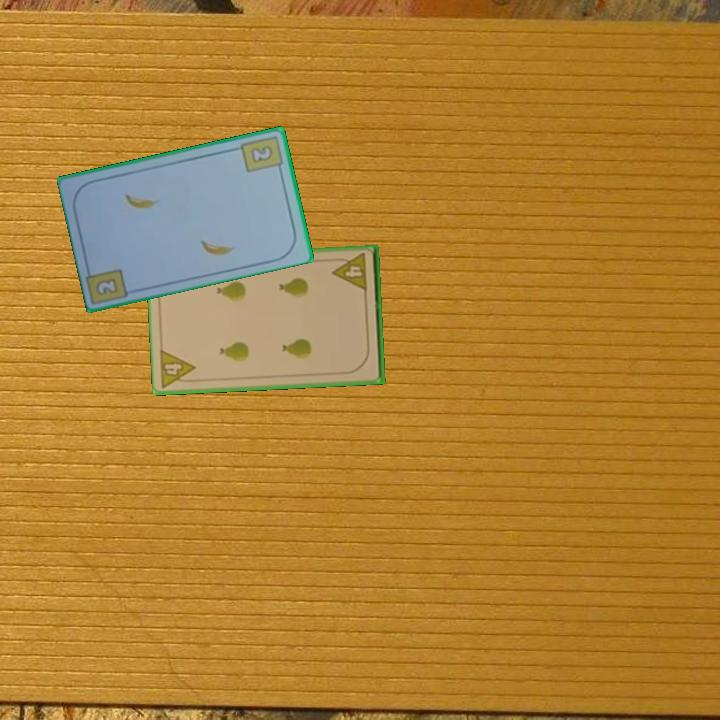2b: (237, 132, 285, 176), (92, 274, 121, 298)
4p: (157, 346, 200, 390), (329, 250, 370, 294)
